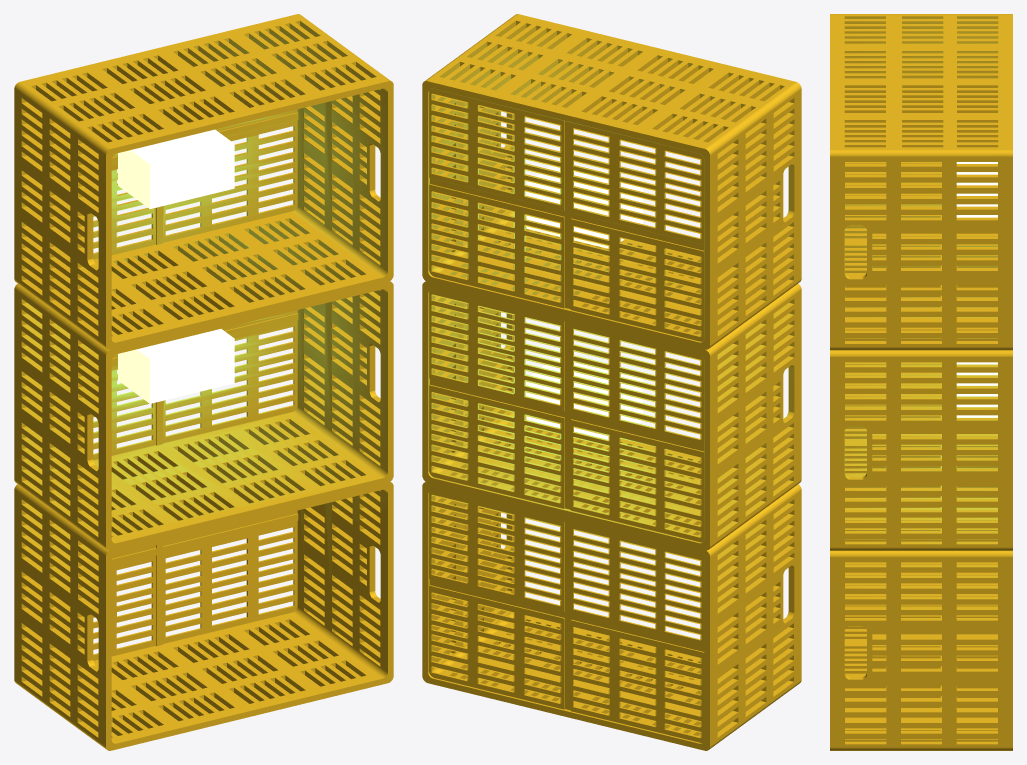
The model's file is aninipot-crate-glow.glb.
3 renders of one model, left to right at view 1: azimuth 30°, elevation 25°; view 2: azimuth 150°, elevation 25°; view 3: azimuth 270°, elevation 25°, orthographic.
Visible parts, largest first — view 1: *6, aninipot_glow, *9; view 2: *6, aninipot_glow, *9; view 3: *6, aninipot_glow, *9.
Part boxes in pixels (bbox=[...]): *6: bbox=[14, 14, 393, 750]; aninipot_glow: bbox=[23, 25, 380, 517]; *9: bbox=[118, 129, 234, 403]; *6: bbox=[422, 14, 801, 750]; aninipot_glow: bbox=[428, 45, 788, 563]; *9: bbox=[526, 160, 642, 439]; *6: bbox=[830, 14, 1012, 750]; aninipot_glow: bbox=[845, 28, 997, 530]; *9: bbox=[956, 162, 997, 417].
Size of the model in its own units: 0.4501 by 0.8996 by 0.248.
